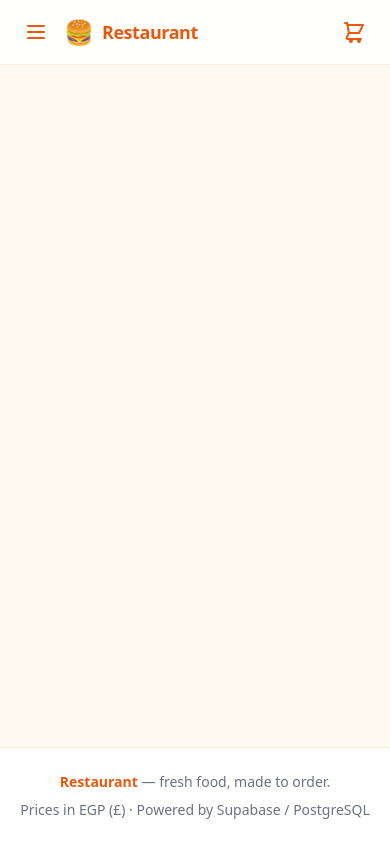
Test: role-aware navigation › shows the kitchen for active servers on both menus without a dashboard
The width and height of the screenshot is (390, 844).
Click the button named "Toggle navigation menu": (36, 32) [16,12,56,52]
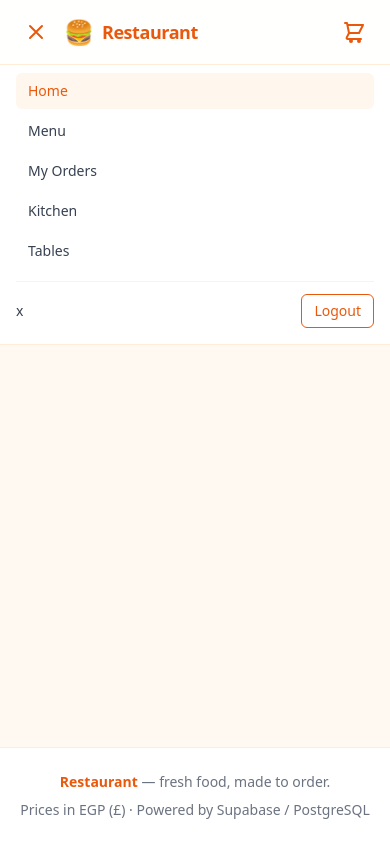
expect the text "Kitchen" is shown 2 times: met
expect the text "Tables" is shown 2 times: met
